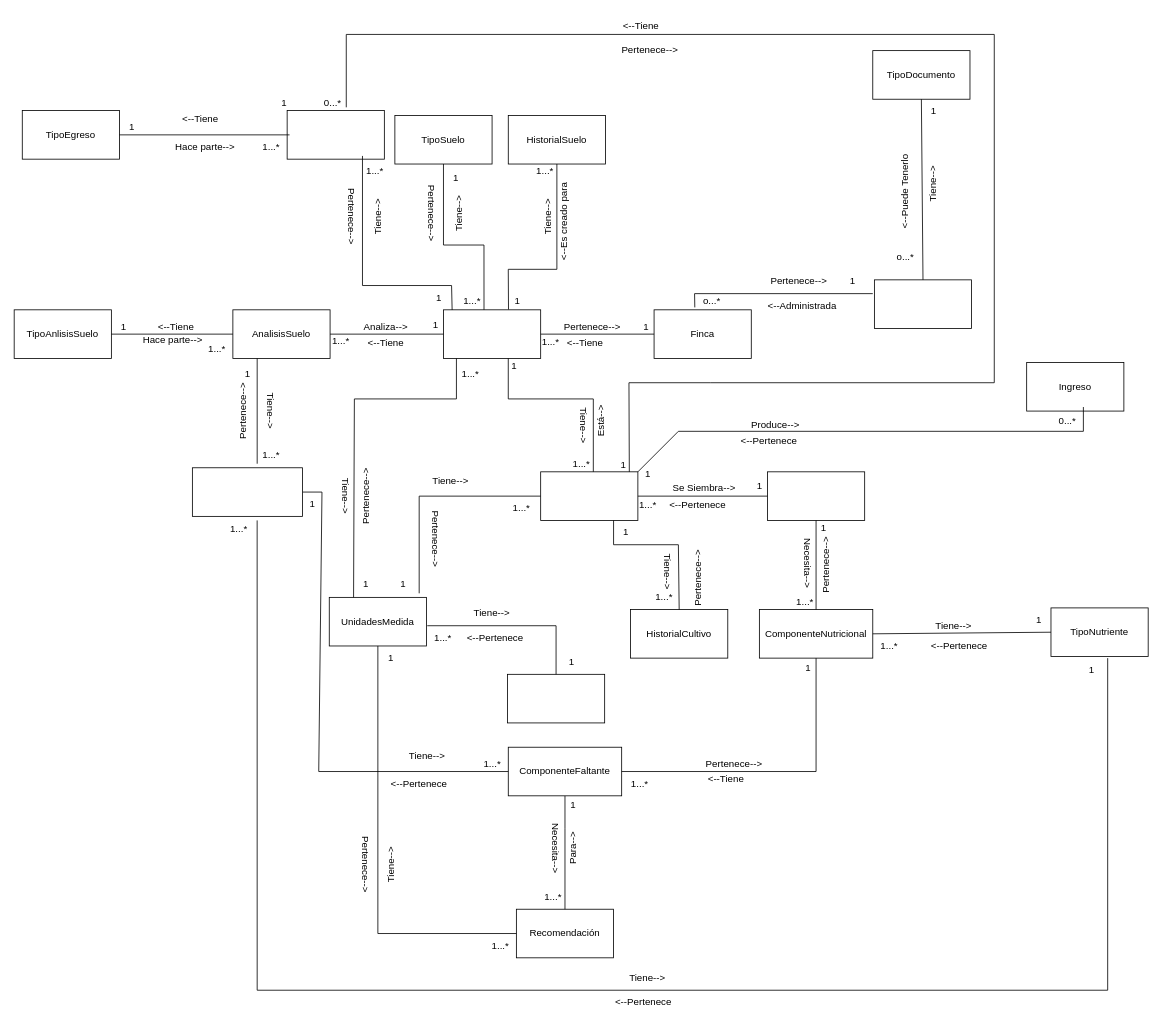
Some shapes in this 1162 by 1028 pixel diagram are drawn without their labels. Here are the shapes that lost their labels. From the top down, the box of each, then its label:
(286, 110, 384, 159): Egreso
(874, 279, 972, 328): Usuario
(443, 309, 541, 358): Suelo
(192, 467, 303, 516): ResultadoAnalisisSuelo
(540, 471, 638, 520): Cultivo
(767, 471, 865, 520): TipoPlanta
(507, 674, 605, 723): TipoUnidadesMedida
